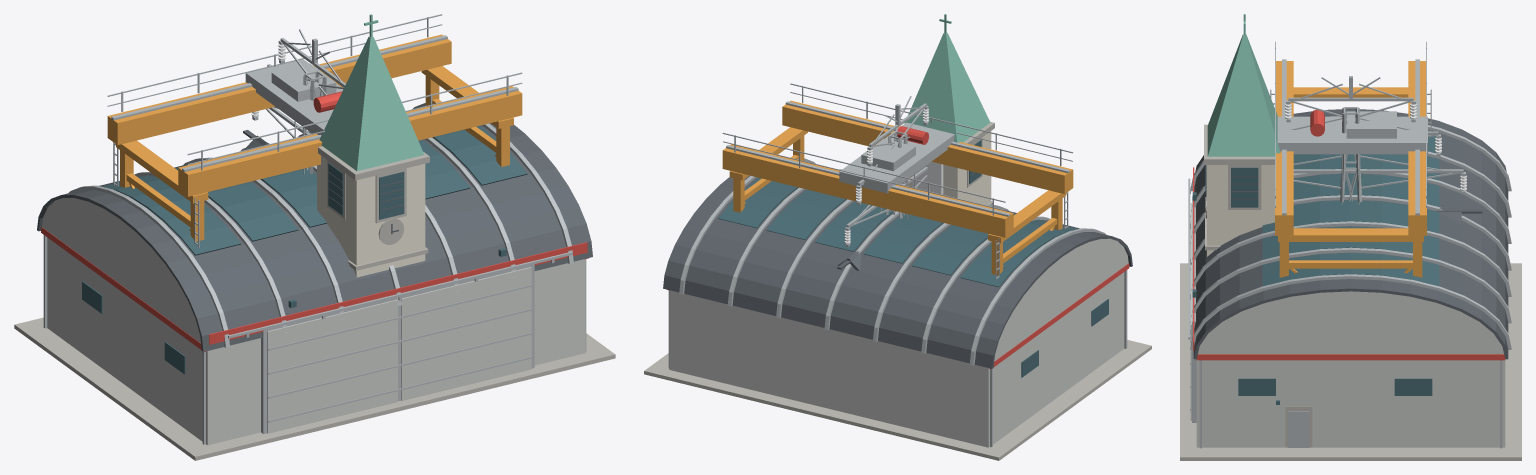
Rendered from landscape-kit-v3.glb.
The picture shows the model from 3 angles, left to right: view 1: azimuth 30°, elevation 25°; view 2: azimuth 150°, elevation 25°; view 3: azimuth 270°, elevation 25°; orthographic projection. The views are drawn at different scales.
Visible parts, largest first — view 1: Hangar_Galvanized, Hangar_DarkRoof, GantryCrane_Orange, Hangar_GalvSteel, Hangar_DarkGlass, Hangar_Concrete, GantryCrane_GalvSteel, Church_Copper, Church_ChurchPlaster, Hangar_SignalRed, Church_Concrete, PowerPylon_GalvSteel (+1 smaller); view 2: Hangar_Galvanized, Hangar_DarkRoof, GantryCrane_Orange, Hangar_DarkGlass, GantryCrane_GalvSteel, Hangar_Concrete, Hangar_GalvSteel, Church_Copper, PowerPylon_GalvSteel, Church_ChurchPlaster, Hangar_SignalRed, GantryCrane_PaintWhite; view 3: Hangar_Galvanized, Hangar_DarkRoof, Hangar_DarkGlass, Hangar_GalvSteel, Hangar_Concrete, GantryCrane_Orange, GantryCrane_GalvSteel, Church_Copper, PowerPylon_GalvSteel, Church_ChurchPlaster, Hangar_SignalRed, Church_Concrete (+4 smaller).
Part boxes in pixels (box(x1,y1,x2,y2)): Hangar_Galvanized: box(42, 198, 585, 445); Hangar_DarkRoof: box(37, 123, 592, 351); GantryCrane_Orange: box(107, 34, 522, 241); Hangar_GalvSteel: box(43, 103, 586, 444); Hangar_DarkGlass: box(82, 126, 527, 374); Hangar_Concrete: box(14, 317, 615, 460); GantryCrane_GalvSteel: box(107, 14, 522, 247); Church_Copper: box(319, 14, 424, 171); Church_ChurchPlaster: box(317, 155, 425, 277); Hangar_SignalRed: box(41, 227, 588, 352); Church_Concrete: box(318, 146, 429, 270); PowerPylon_GalvSteel: box(252, 29, 345, 173); Hangar_Galvanized: box(669, 238, 1128, 447); Hangar_DarkRoof: box(663, 175, 1132, 368); GantryCrane_Orange: box(722, 100, 1073, 275); Hangar_DarkGlass: box(718, 178, 1108, 377); GantryCrane_GalvSteel: box(722, 83, 1073, 280); Hangar_Concrete: box(644, 340, 1151, 460); Hangar_GalvSteel: box(668, 158, 1127, 447); Church_Copper: box(904, 14, 990, 142); PowerPylon_GalvSteel: box(845, 96, 928, 246); Church_ChurchPlaster: box(902, 131, 991, 204); Hangar_SignalRed: box(667, 263, 1129, 368); GantryCrane_PaintWhite: box(912, 161, 943, 194); Hangar_Galvanized: box(1190, 203, 1505, 447); Hangar_DarkRoof: box(1193, 109, 1508, 359); Hangar_DarkGlass: box(1192, 130, 1439, 404); Hangar_GalvSteel: box(1188, 116, 1511, 448); Hangar_Concrete: box(1180, 263, 1521, 460); GantryCrane_Orange: box(1275, 61, 1426, 277); GantryCrane_GalvSteel: box(1270, 41, 1431, 215); Church_Copper: box(1207, 14, 1280, 156); PowerPylon_GalvSteel: box(1286, 76, 1465, 202); Church_ChurchPlaster: box(1207, 165, 1274, 256); Hangar_SignalRed: box(1193, 167, 1505, 360); Church_Concrete: box(1204, 124, 1274, 250).
Bounding box in the file's own units: 22 × 18.5 × 16.4.
